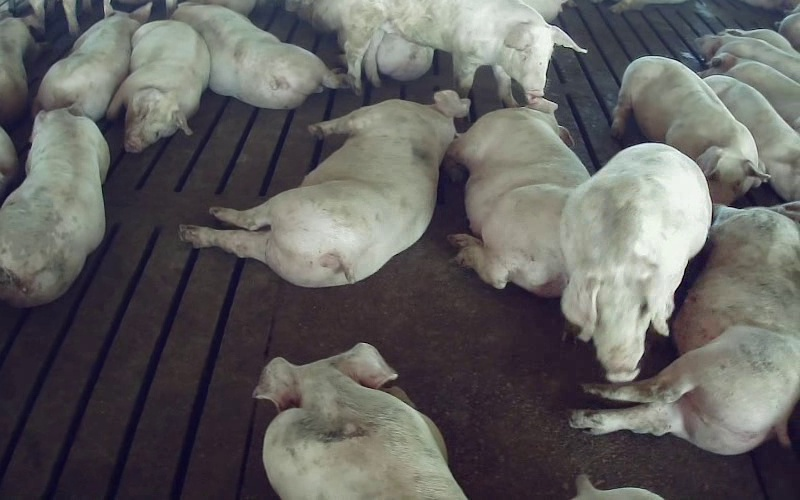pig: (570, 201, 799, 454), (180, 90, 468, 286), (253, 343, 465, 499), (447, 98, 589, 296), (338, 0, 585, 106), (612, 56, 768, 204), (0, 108, 109, 306), (173, 3, 344, 108), (33, 0, 151, 120), (107, 20, 209, 151), (704, 75, 799, 200)
